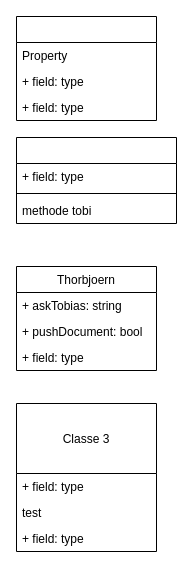
Image size: 193x568. Some labels were removed from this diagram. Each missing label, with the box of its shape:
Classname: (16, 136, 176, 224)
TestClasse1: (16, 16, 156, 120)
